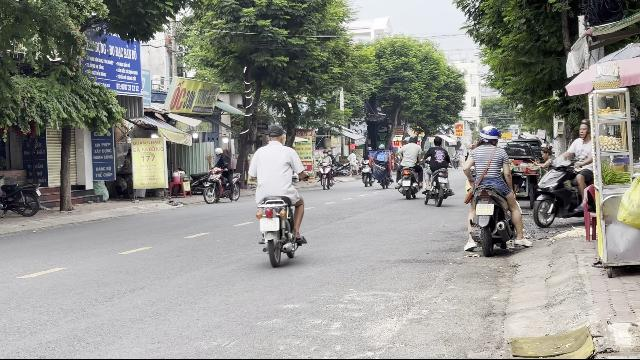helmet: (478, 125, 500, 145), (577, 120, 591, 140)
licenseplate: (260, 218, 280, 232), (476, 204, 494, 214)
motorcyclist: (460, 124, 526, 256), (248, 121, 308, 265), (532, 119, 598, 228)
nohelmet: (264, 122, 286, 144)
